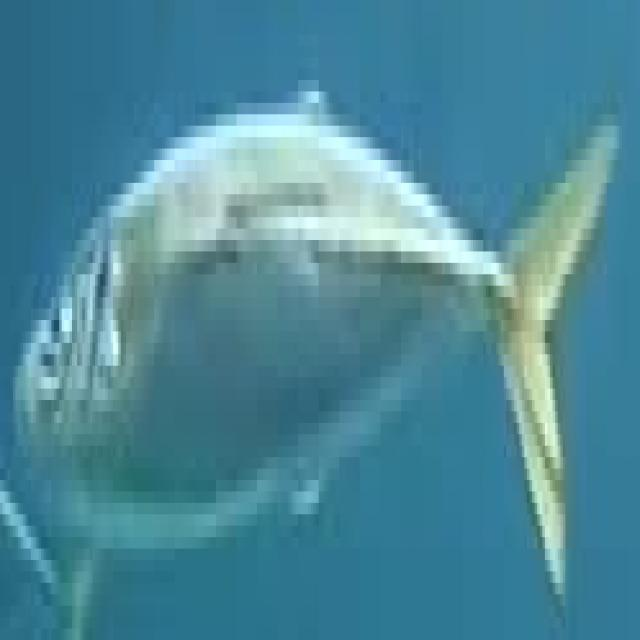fish: (2, 11, 640, 639)
